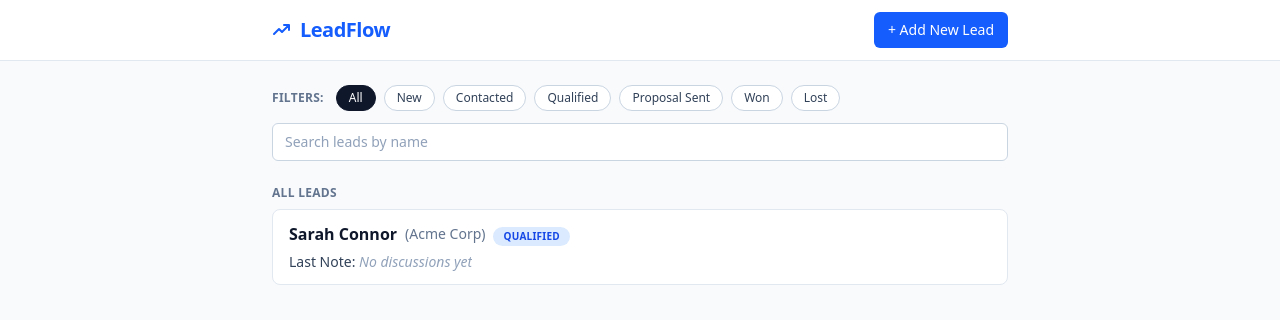
it: lead list states › explains an empty result when a filter is active
This screenshot has width=1280, height=320.
Expected: the text "Sarah Connor" is shown, [289,222,397,246]
Click the button "Won": (757, 98) [731,85,783,111]
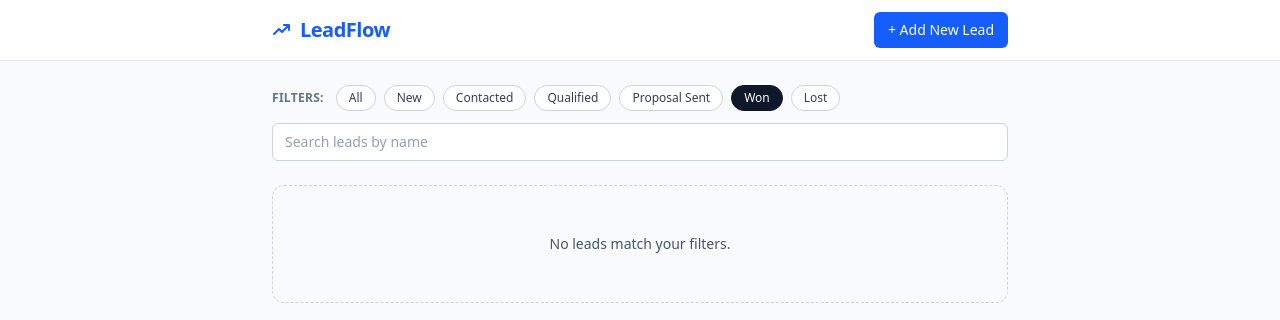
Now the text "No leads match your filters." is shown, box [550,234,730,253]
